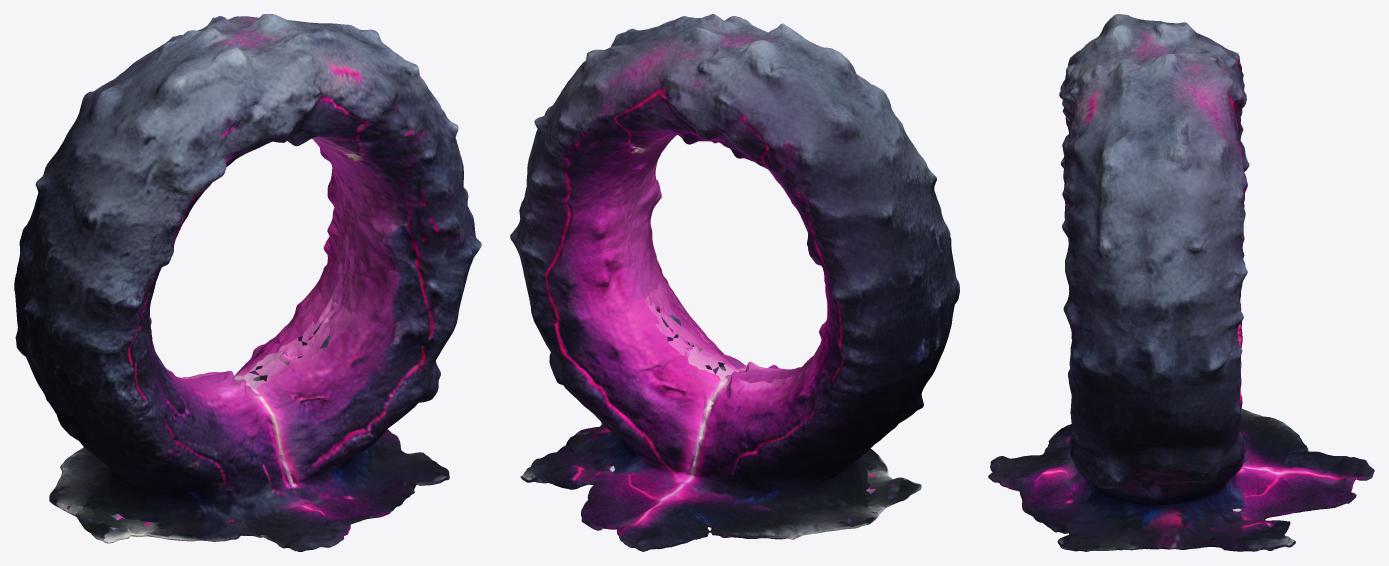
File: shore-ring-generated-2026-04-19T15-27-11-001Z.glb
3 views of the same model, side by side, from view 1: azimuth 30°, elevation 25°; view 2: azimuth 150°, elevation 25°; view 3: azimuth 270°, elevation 25° (orthographic). The views are drawn at different scales.
Visible parts, largest first — view 1: temp_mesh.ply; view 2: temp_mesh.ply; view 3: temp_mesh.ply.
Part boxes in pixels (box(x1,y1,x2,y2)): temp_mesh.ply: box(14, 14, 481, 551); temp_mesh.ply: box(510, 14, 959, 551); temp_mesh.ply: box(988, 14, 1374, 551).
Size of the model in its own units: 1.97 by 1.97 by 1.57.
1 material, 1 textured.
